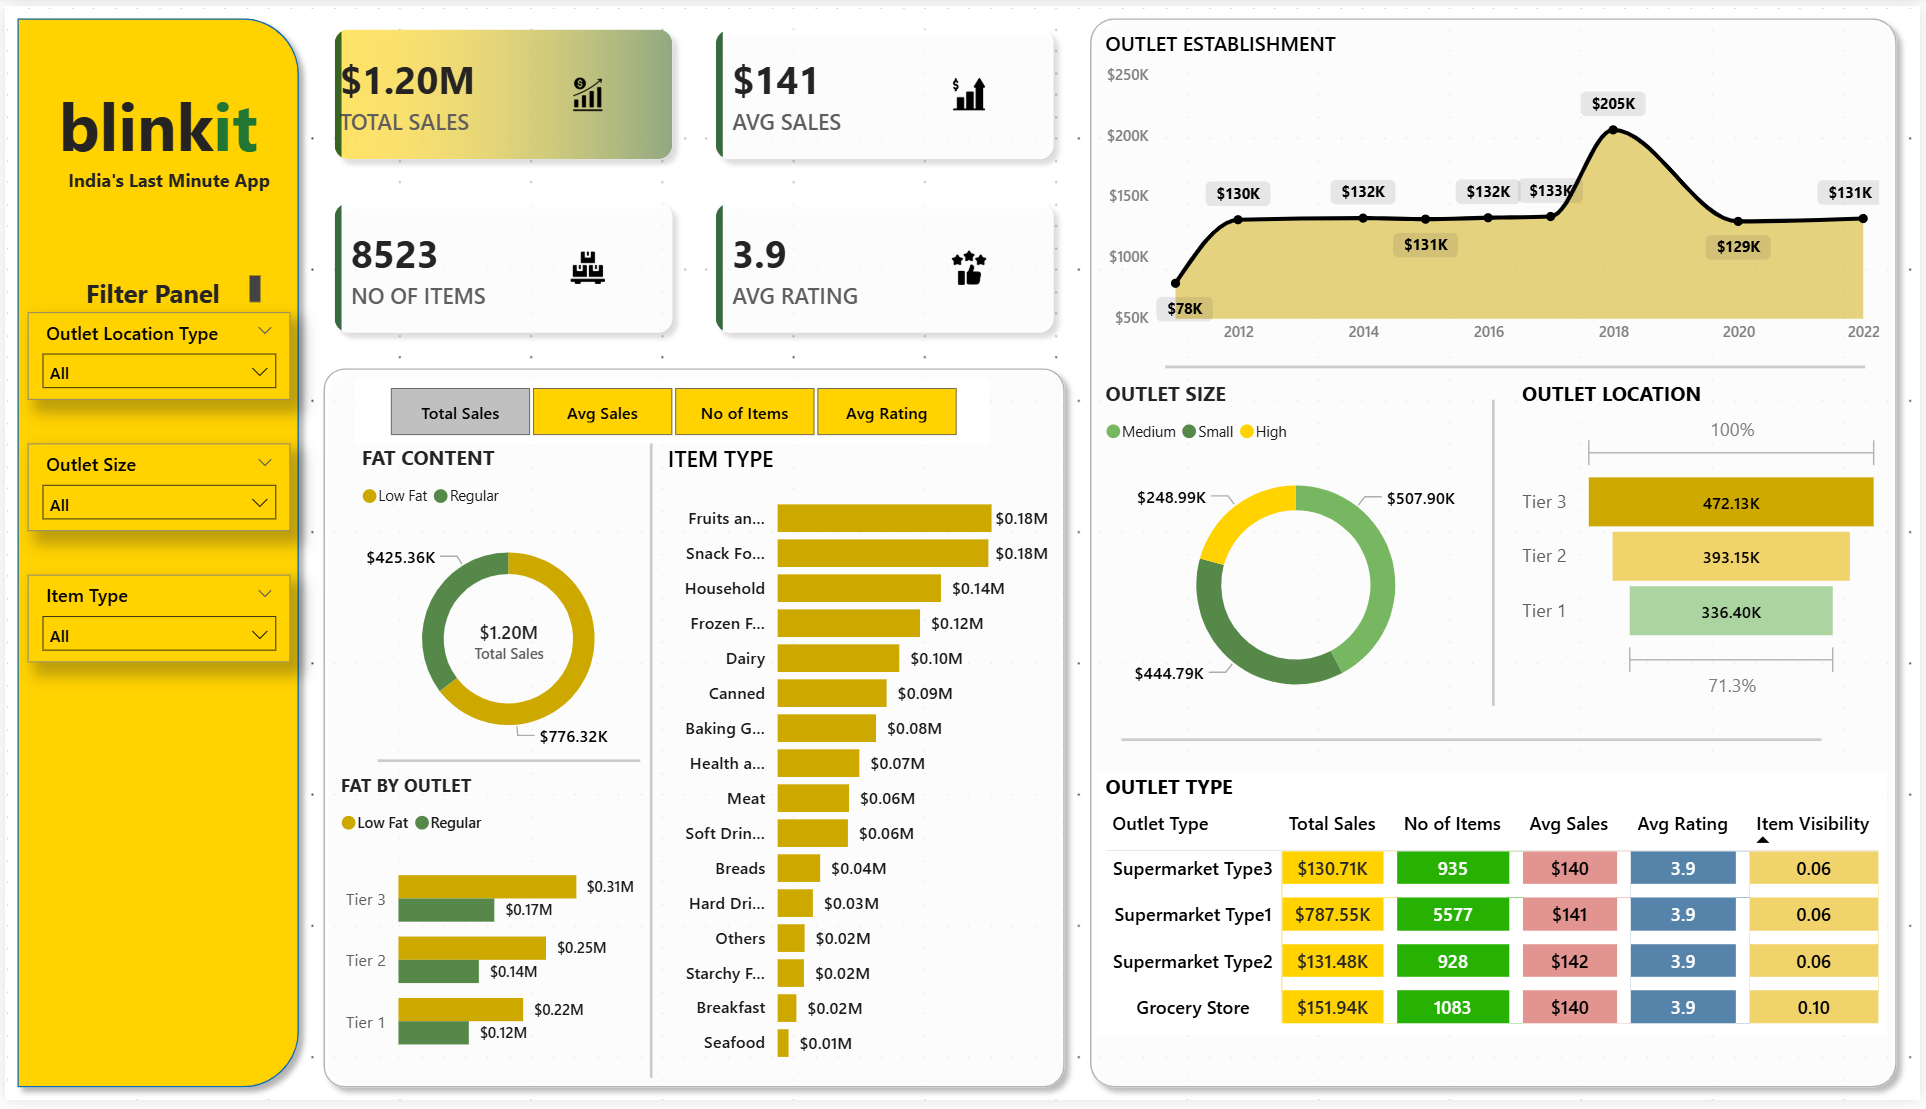

This screenshot's page, from the dashboard's own definition file:
{"tool":"powerbi","page":{"name":"Page 1","canvas":[1400,800],"ordinal":0},"visuals":[{"type":"shape","box":[0,0,224,800],"z":0},{"type":"textbox","box":[32,48,160,80],"z":1000},{"type":"textbox","box":[32,112,176,32],"z":2000},{"type":"cardVisual","fields":{"Data":["BlinkIT Grocery Data.Total Sales","BlinkIT Grocery Data.AVG Sales","BlinkIT Grocery Data.NO of Items","BlinkIT Grocery Data.AVG Rating"]},"box":[224,0,560,256],"z":3000},{"type":"shape","box":[224,256,560,544],"z":4000},{"type":"donutChart","title":"FAT CONTENT","fields":{"Y":["BlinkIT Grocery Data.Total Sales"],"Category":["BlinkIT Grocery Data.Item Fat Content"]},"box":[256,320,224,240],"z":5000},{"type":"slicer","fields":{"Values":["Metrics.Metrics"]},"box":[256,272,464,48],"z":6000},{"type":"cardVisual","fields":{"Data":["BlinkIT Grocery Data.Total Sales"]},"box":[304,432,128,64],"z":7000},{"type":"clusteredBarChart","title":"FAT BY OUTLET","fields":{"Y":["BlinkIT Grocery Data.Total Sales"],"Category":["BlinkIT Grocery Data.Outlet Location Type"],"Series":["BlinkIT Grocery Data.Item Fat Content"]},"box":[240,560,224,224],"z":8000},{"type":"shape","box":[272,544,192,16],"z":9000},{"type":"shape","box":[464,320,16,464],"z":10000},{"type":"barChart","title":"ITEM TYPE","fields":{"Y":["BlinkIT Grocery Data.Total Sales"],"Category":["BlinkIT Grocery Data.Item Type"]},"box":[480,320,288,464],"z":11000},{"type":"shape","box":[784,0,608,800],"z":12000},{"type":"lineChart","title":"OUTLET ESTABLISHMENT","fields":{"Category":["BlinkIT Grocery Data.Outlet Establishment Year"],"Y":["BlinkIT Grocery Data.Total Sales"]},"box":[800,16,576,240],"z":13000},{"type":"shape","box":[848,256,512,16],"z":14000},{"type":"donutChart","title":"OUTLET SIZE","fields":{"Y":["BlinkIT Grocery Data.Total Sales"],"Category":["BlinkIT Grocery Data.Outlet Size"]},"box":[800,272,288,256],"z":15000},{"type":"funnel","title":"OUTLET LOCATION","fields":{"Y":["Sum(BlinkIT Grocery Data.Sales)"],"Category":["BlinkIT Grocery Data.Outlet Location Type"]},"box":[1104,272,272,240],"z":16000},{"type":"shape","box":[1072,288,32,224],"z":17000},{"type":"shape","box":[816,528,512,16],"z":18000},{"type":"pivotTable","title":"OUTLET TYPE","fields":{"Values":["BlinkIT Grocery Data.Total Sales","BlinkIT Grocery Data.No of Items","BlinkIT Grocery Data.Avg Sales","BlinkIT Grocery Data.Avg Rating","Avg(BlinkIT Grocery Data.Item Visibility)"],"Rows":["BlinkIT Grocery Data.Outlet Type"]},"box":[800,560,576,192],"z":19000},{"type":"slicer","fields":{"Values":["BlinkIT Grocery Data.Outlet Location Type"]},"box":[16,224,192,64],"z":20000},{"type":"slicer","fields":{"Values":["BlinkIT Grocery Data.Outlet Size"]},"box":[16,320,192,64],"z":21000},{"type":"slicer","fields":{"Values":["BlinkIT Grocery Data.Item Type"]},"box":[16,416,192,64],"z":22000},{"type":"textbox","box":[32,192,160,32],"z":23000}]}

Visuals, with their boxes in screenshot pixels (x1, y1, x2, y2), scaled from the page's 1400x800 canvas onto the 1926x1109 screenshot:
shape: 0:0:308:1108
textbox: 44:67:264:177
textbox: 44:155:286:200
cardVisual - BlinkIT Grocery Data.Total Sales x BlinkIT Grocery Data.AVG Sales: 308:0:1079:355
shape: 308:355:1079:1108
"FAT CONTENT" donutChart: 352:444:660:776
slicer - Metrics.Metrics: 352:377:991:444
cardVisual - BlinkIT Grocery Data.Total Sales: 418:599:594:688
"FAT BY OUTLET" clusteredBarChart: 330:776:638:1087
shape: 374:754:638:776
shape: 638:444:660:1087
"ITEM TYPE" barChart: 660:444:1057:1087
shape: 1079:0:1915:1108
"OUTLET ESTABLISHMENT" lineChart: 1101:22:1893:355
shape: 1167:355:1871:377
"OUTLET SIZE" donutChart: 1101:377:1497:732
"OUTLET LOCATION" funnel: 1519:377:1893:710
shape: 1475:399:1519:710
shape: 1123:732:1827:754
"OUTLET TYPE" pivotTable: 1101:776:1893:1042
slicer - BlinkIT Grocery Data.Outlet Location Type: 22:311:286:399
slicer - BlinkIT Grocery Data.Outlet Size: 22:444:286:532
slicer - BlinkIT Grocery Data.Item Type: 22:577:286:665
textbox: 44:266:264:311
